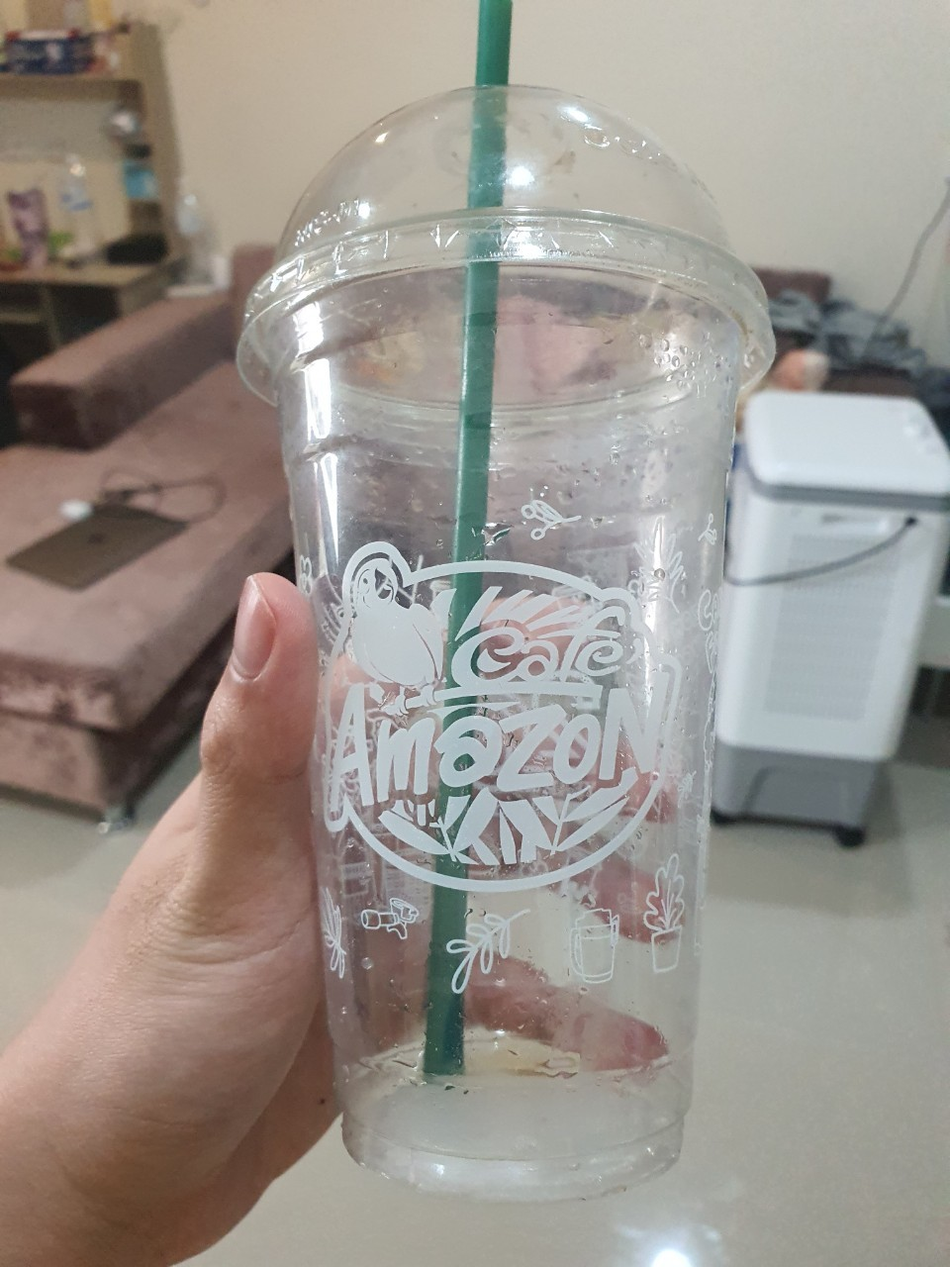plastic: (225, 58, 796, 1219)
